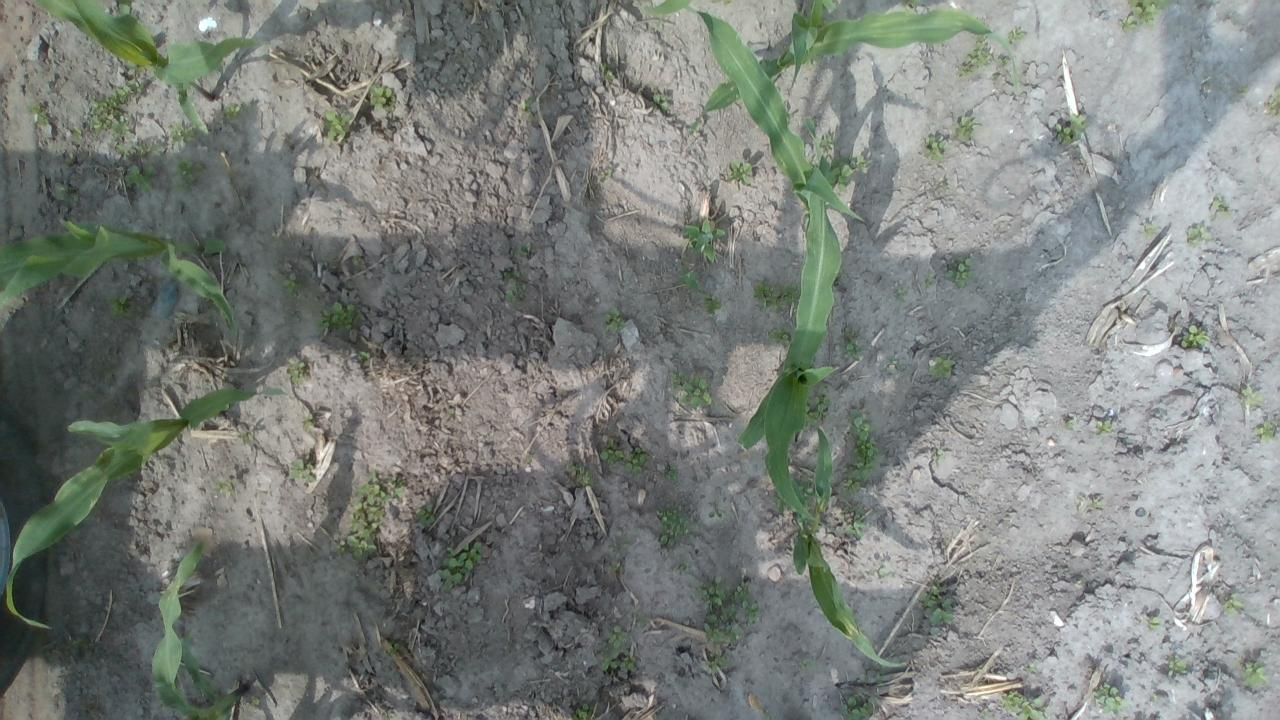Maize: (683, 4, 870, 520), (8, 386, 288, 631), (688, 4, 1022, 137), (30, 0, 258, 135), (793, 417, 911, 672), (0, 218, 241, 338), (644, 0, 838, 92), (152, 540, 250, 720)
Weeds: (332, 470, 391, 562), (692, 573, 761, 646), (840, 408, 880, 494), (90, 80, 144, 139), (436, 540, 486, 590), (115, 142, 159, 197), (680, 219, 726, 266), (596, 625, 640, 673), (316, 298, 366, 340), (918, 578, 958, 626), (1117, 0, 1170, 33), (654, 502, 692, 547), (752, 277, 798, 313), (828, 154, 871, 191), (958, 31, 992, 77), (1000, 689, 1050, 720), (668, 372, 712, 407), (169, 156, 207, 194), (1091, 683, 1131, 714), (1055, 114, 1092, 146), (942, 256, 976, 289), (103, 290, 138, 320), (804, 385, 831, 423), (1236, 658, 1270, 688), (839, 694, 878, 720), (838, 326, 866, 362), (842, 502, 868, 540), (565, 459, 597, 488), (321, 109, 350, 141), (723, 158, 752, 190), (366, 83, 396, 113), (952, 116, 984, 143), (925, 354, 956, 380), (598, 306, 626, 334), (920, 134, 949, 160), (501, 282, 526, 312), (624, 448, 650, 476), (1208, 194, 1234, 222), (1180, 326, 1212, 348), (289, 458, 316, 484), (25, 100, 52, 126), (1252, 420, 1278, 446), (704, 649, 730, 674), (600, 439, 624, 466), (1238, 386, 1266, 409), (698, 293, 724, 317), (676, 266, 702, 290), (168, 122, 196, 144), (284, 356, 306, 384), (214, 476, 240, 499), (1186, 223, 1212, 246), (415, 502, 436, 528), (768, 325, 794, 346), (1166, 655, 1190, 677), (122, 58, 147, 79), (56, 182, 79, 204), (1077, 496, 1105, 514), (608, 532, 630, 554), (817, 130, 839, 152), (1223, 592, 1244, 615), (282, 273, 302, 297), (1265, 85, 1280, 116), (570, 701, 594, 720), (1140, 611, 1162, 631), (649, 92, 671, 112), (872, 661, 889, 686), (660, 464, 679, 486), (1005, 26, 1027, 45), (220, 104, 243, 122), (1142, 220, 1162, 240), (772, 493, 790, 515), (508, 242, 536, 256), (797, 479, 815, 500), (389, 476, 405, 499), (520, 95, 536, 118), (598, 62, 614, 84), (707, 500, 726, 518), (238, 429, 255, 447), (894, 287, 910, 306), (70, 124, 85, 144), (898, 0, 921, 13), (501, 267, 524, 280), (113, 0, 134, 14), (634, 609, 651, 626), (1094, 420, 1112, 436), (302, 412, 317, 431), (868, 563, 888, 577), (934, 446, 948, 466), (674, 558, 691, 574), (889, 357, 904, 372), (994, 56, 1012, 68), (598, 168, 613, 182), (922, 274, 936, 289), (388, 642, 402, 656), (799, 659, 814, 672), (356, 350, 372, 362), (610, 562, 624, 574), (64, 152, 76, 166), (980, 708, 994, 720), (352, 254, 363, 267), (711, 0, 733, 6), (1065, 419, 1076, 429), (270, 232, 282, 241), (251, 696, 261, 706), (1238, 86, 1249, 95), (1028, 662, 1037, 673), (938, 180, 948, 189), (1150, 694, 1160, 702)
